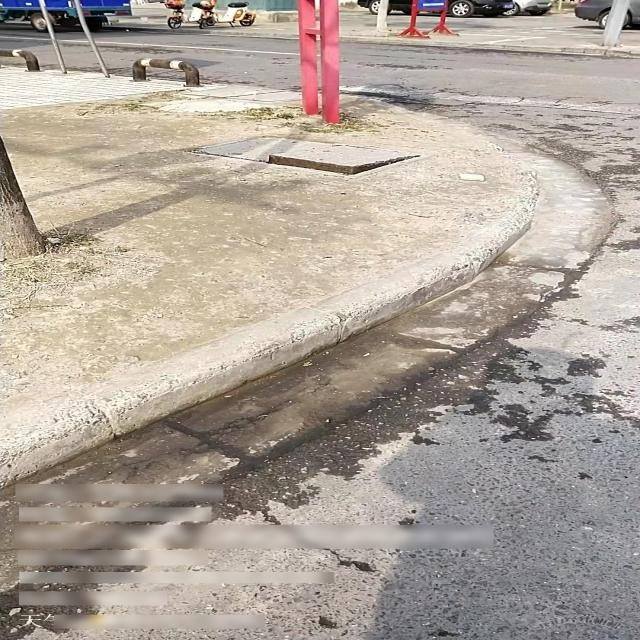Lose: (185, 134, 425, 176)
